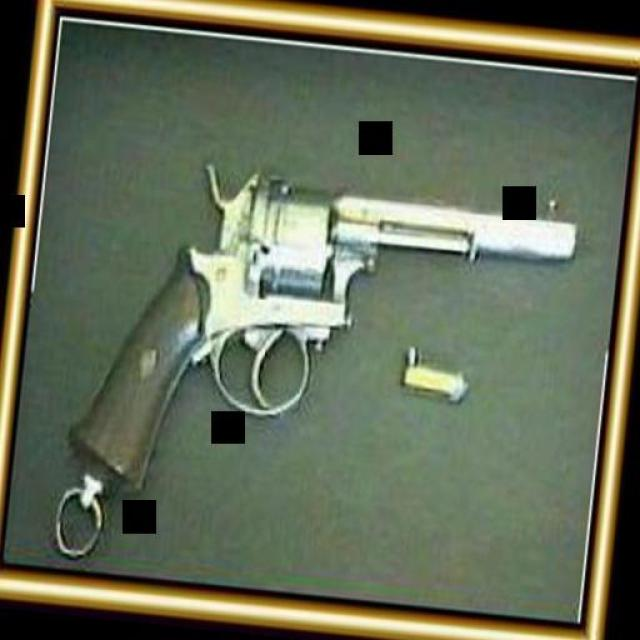gun: (58, 144, 588, 544)
